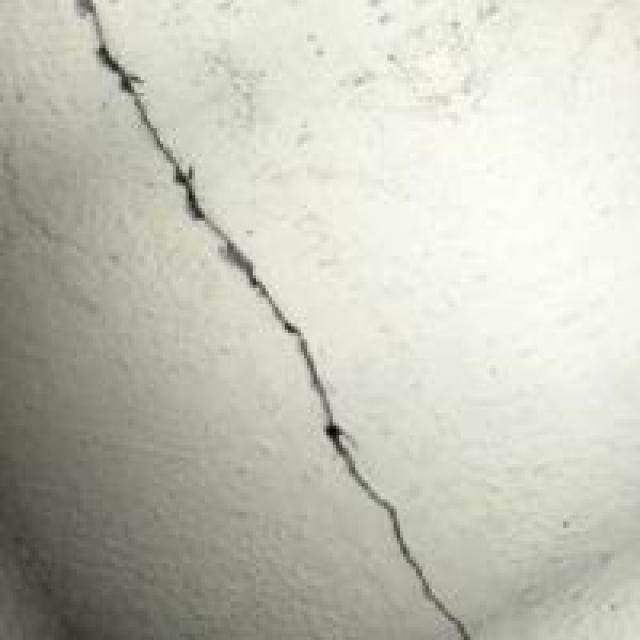crack: (58, 0, 480, 640)
